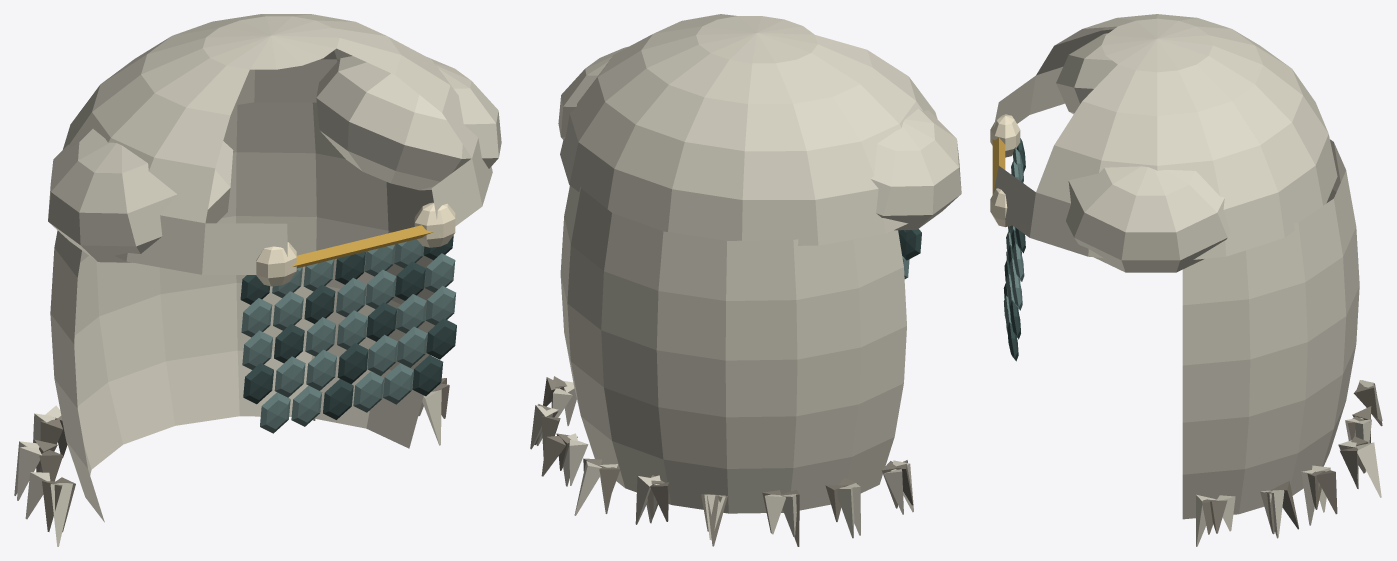
The model's file is saltreaver_king_chest.glb.
3 renders of one model, left to right at view 1: azimuth 30°, elevation 25°; view 2: azimuth 150°, elevation 25°; view 3: azimuth 270°, elevation 25°, orthographic. The views are drawn at different scales.
Parts seen in each view (by area): view 1: saltreaver_king_chest; view 2: saltreaver_king_chest; view 3: saltreaver_king_chest.
Part boxes in pixels (x1,y1,x2,y2): saltreaver_king_chest: (14, 14, 501, 546); saltreaver_king_chest: (530, 14, 961, 546); saltreaver_king_chest: (990, 14, 1382, 546).
Bounding box in the file's own units: 1.38 × 1.5 × 1.24.
